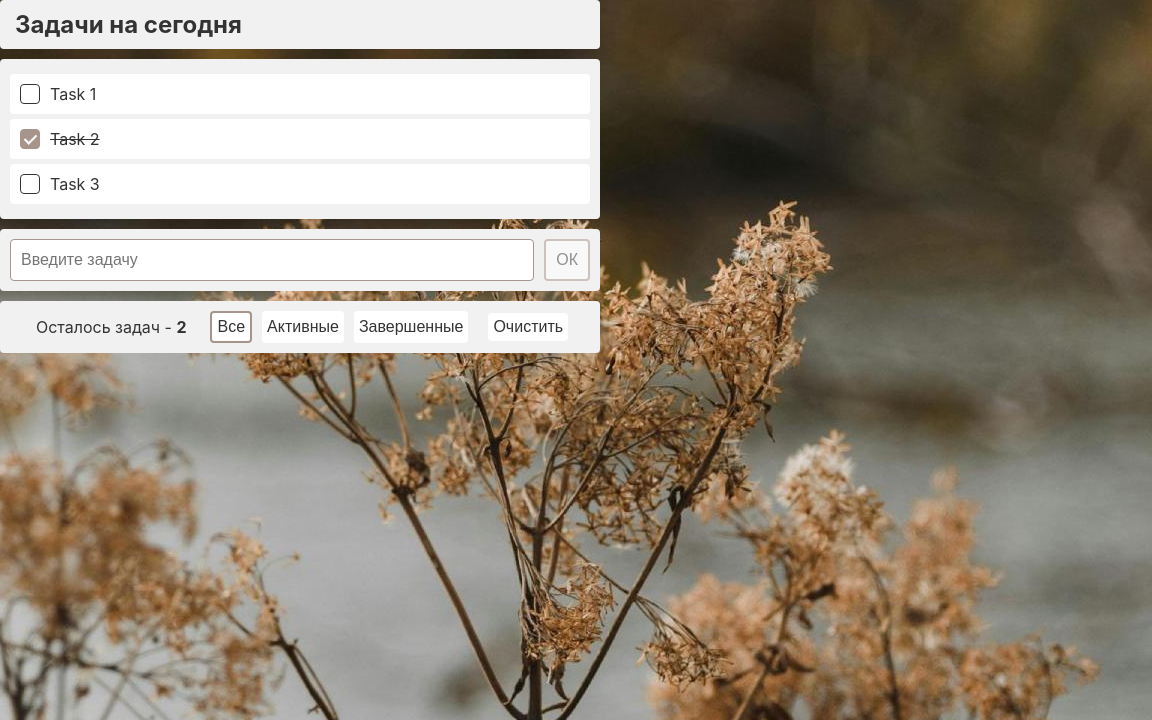
it: TaskList component › adds a new task
Type "New Task" into the field with placeholder "Введите задачу" at (272, 260), box [10, 239, 534, 281]
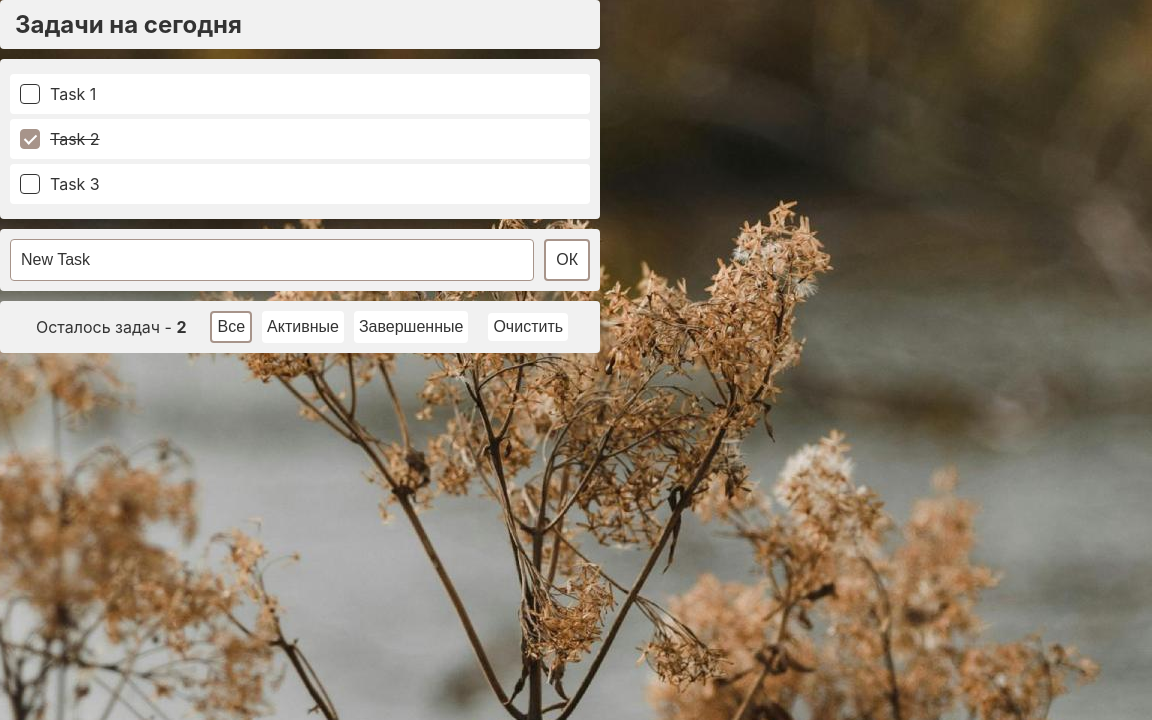
Click the button "ок" at (567, 260), box [544, 239, 590, 281]
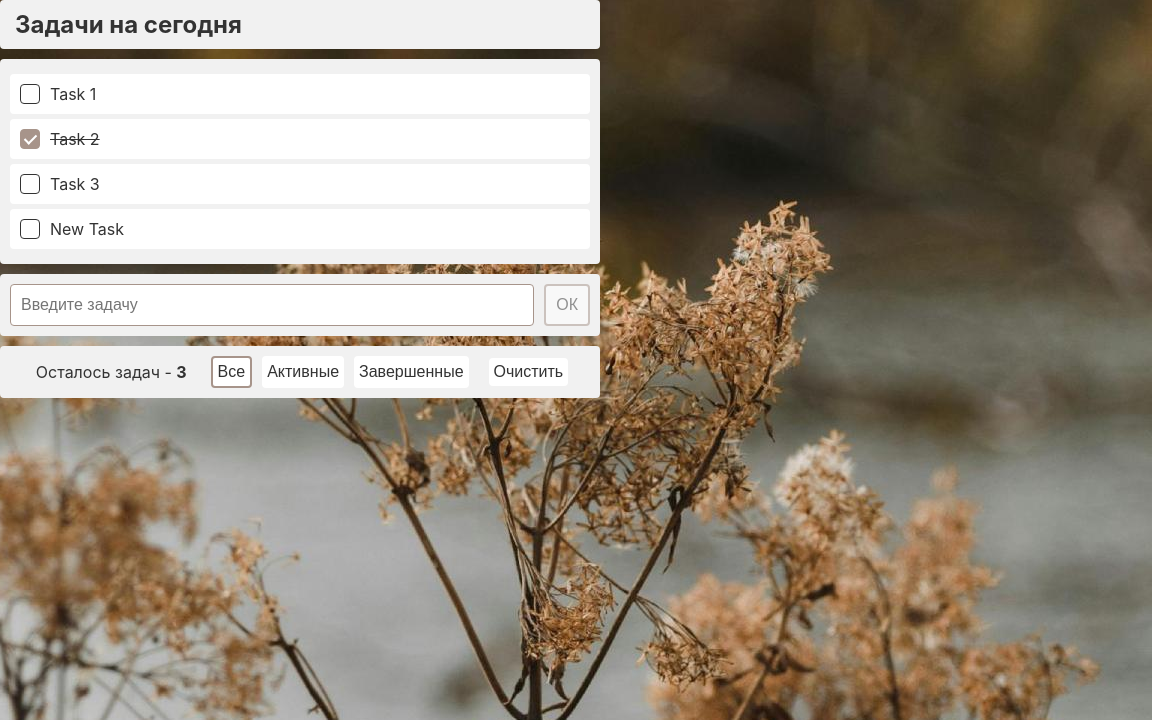
Expected: the checkbox "New Task" is shown, [20, 219, 124, 239]
